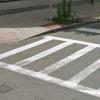Crosswalk: (7, 21, 99, 100)
